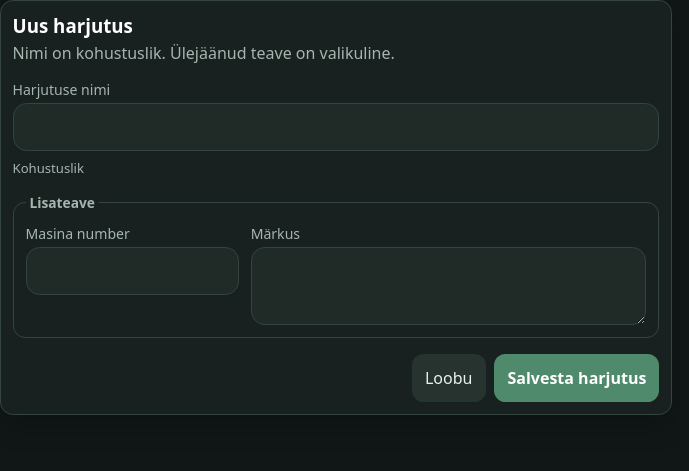
Test: ExerciseForm › explains when saving the exercise fails
In the field labelled "Harjutuse nimi": {"x": 336, "y": 126} x1=12 y1=102 x2=660 y2=150, type "Rinnalt surumine"
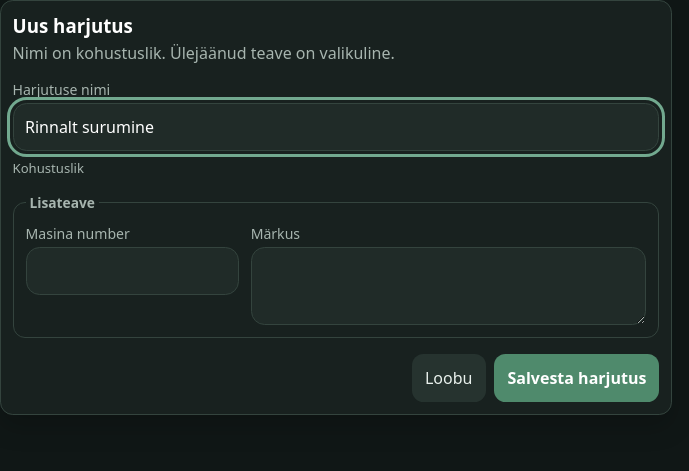
Click the button "Salvesta harjutus": {"x": 577, "y": 378} x1=494 y1=354 x2=660 y2=402
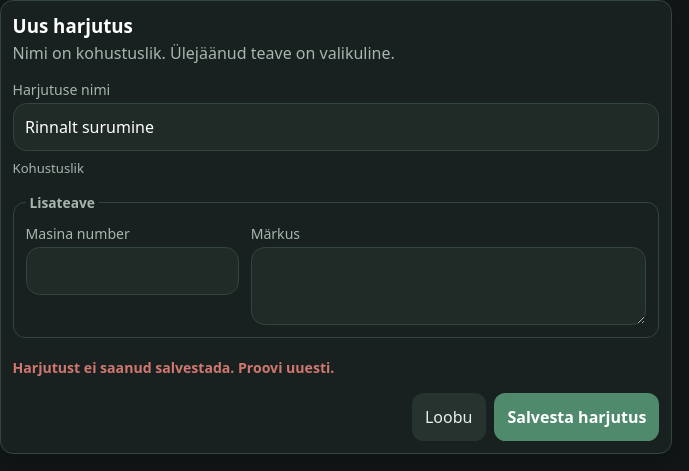
Expected: the button "Salvesta harjutus" is enabled, x1=494 y1=393 x2=660 y2=441
Result: the message reads "Harjutust ei saanud salvestada. Proovi uuesti." at x1=12 y1=358 x2=334 y2=377
